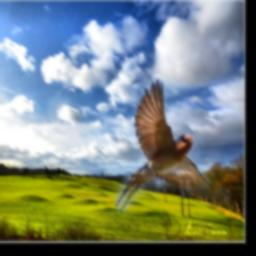Swallow: (116, 80, 231, 213)
